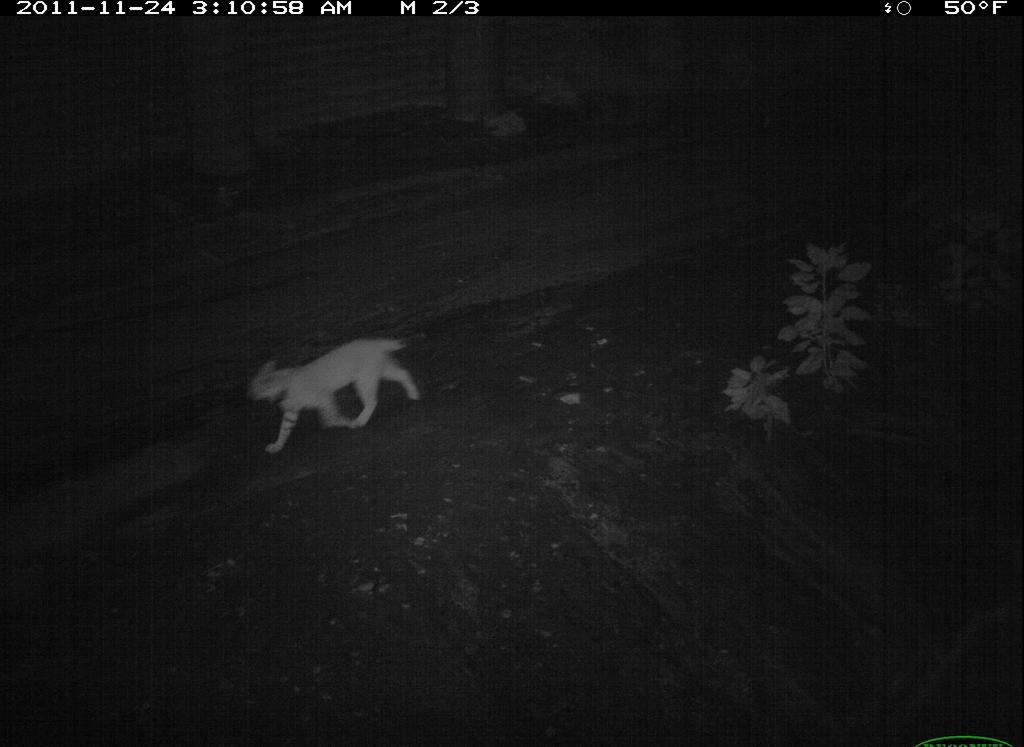bobcat: (237, 332, 425, 461)
